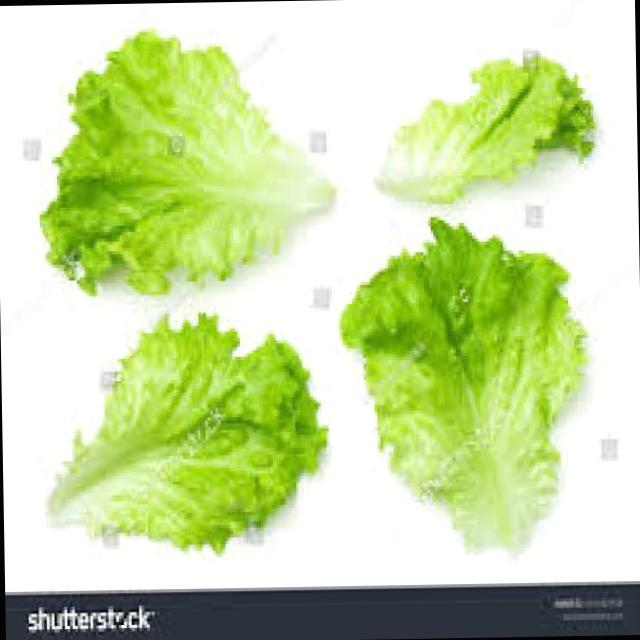Lettuce-Ready-to-Harvest: (341, 218, 585, 547), (41, 32, 332, 292), (51, 315, 326, 550), (384, 57, 593, 200)
